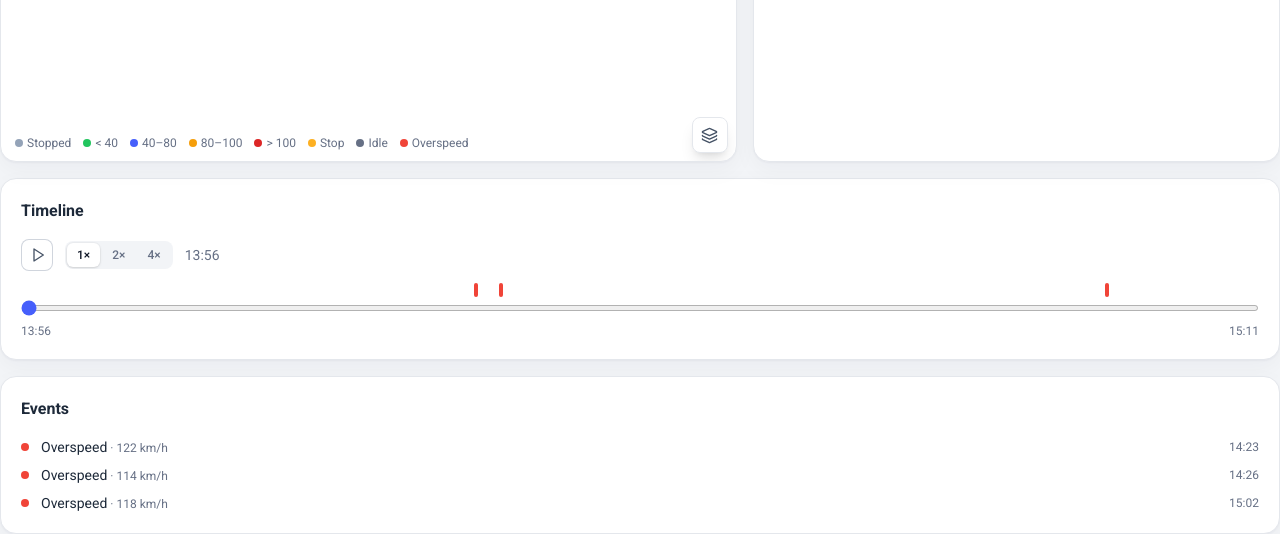
Test: TripDetailPage › toggles playback when the play button is clicked
(page scrolled)
What coordinates should you click on to do the following:
click the button named "Play"
I would click on:
 (37, 255)
Its box is [21, 239, 53, 271].
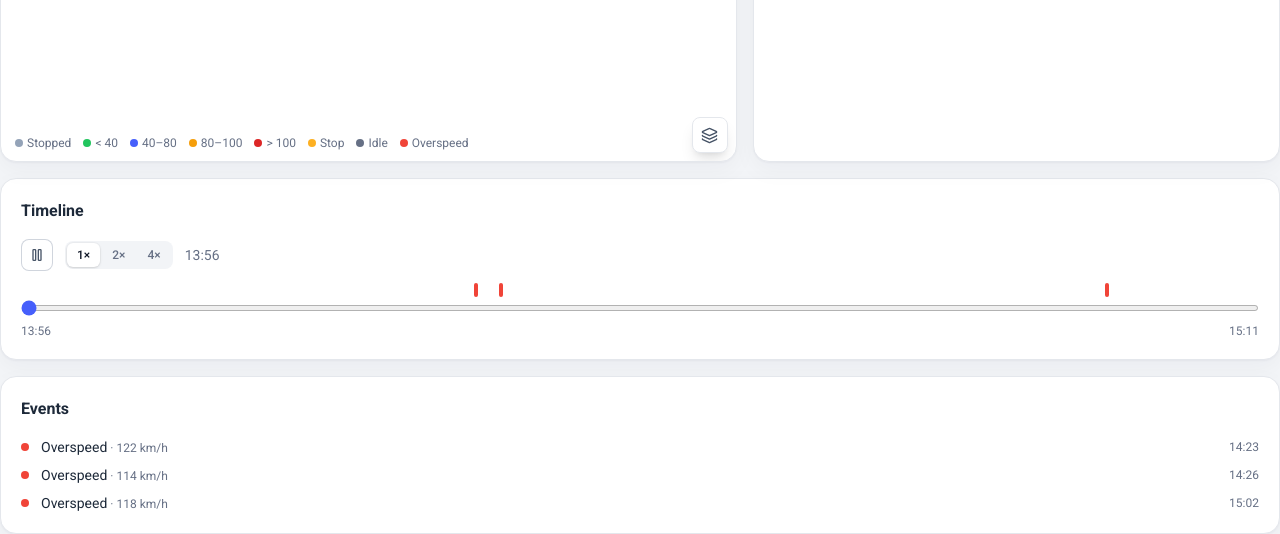
Expected: the button named "Pause" is shown, [21, 239, 53, 271]
